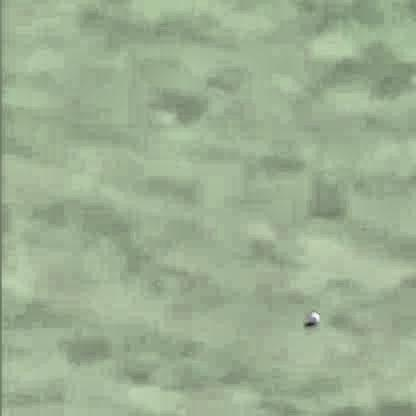golfball: (308, 306, 318, 319)
